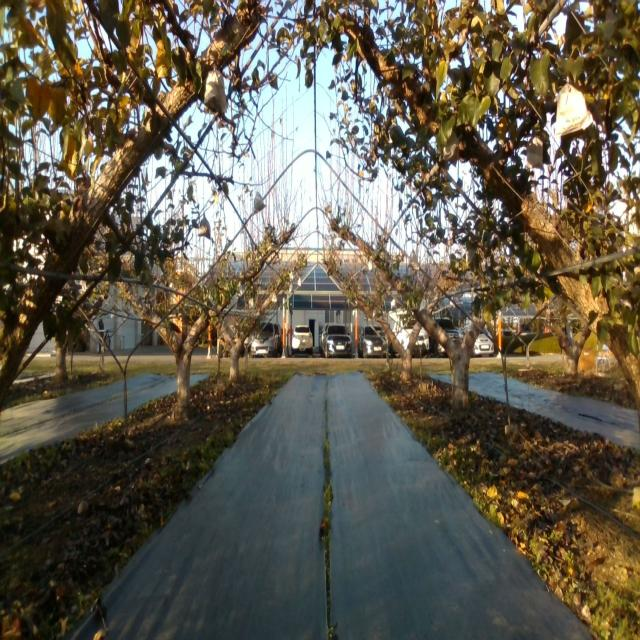pearbags: (554, 76, 593, 135), (204, 63, 228, 114), (527, 137, 545, 171), (198, 212, 212, 240), (253, 189, 266, 215), (408, 250, 420, 272)
